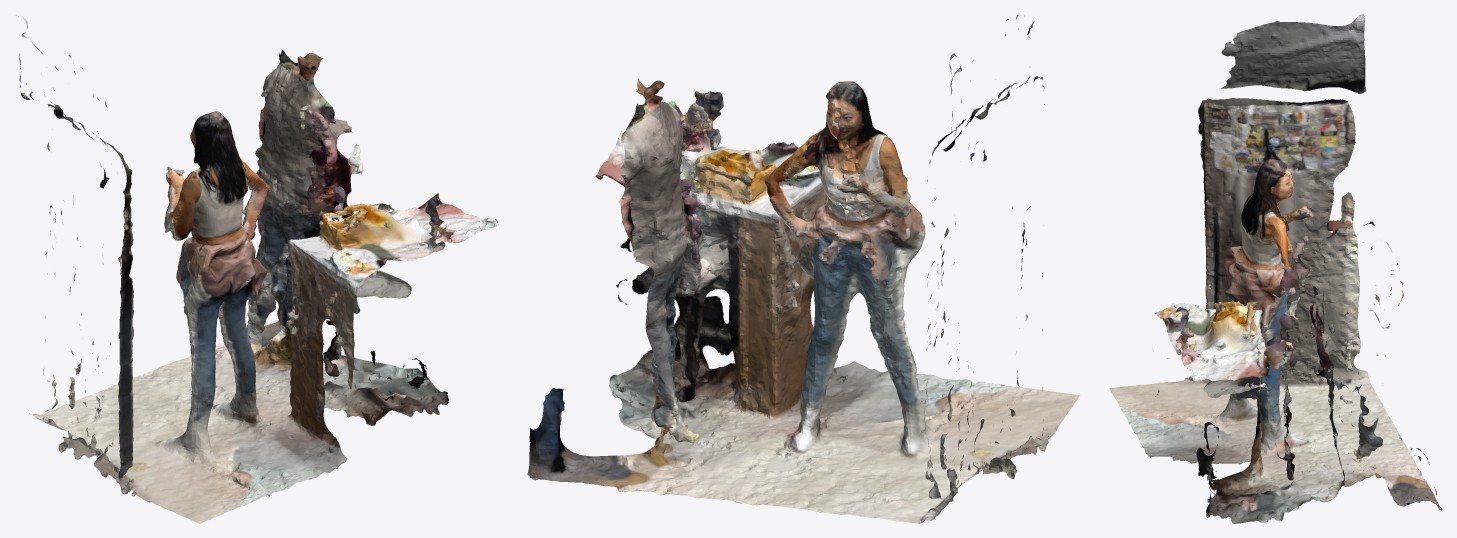
File: mbo_friends_Georgia.glb
The picture shows the model from 3 angles, left to right: view 1: azimuth 30°, elevation 25°; view 2: azimuth 150°, elevation 25°; view 3: azimuth 270°, elevation 25°; orthographic projection. The views are drawn at different scales.
Size of the model in its own units: 2.19 by 2.24 by 1.86.
1 material, 1 textured.
